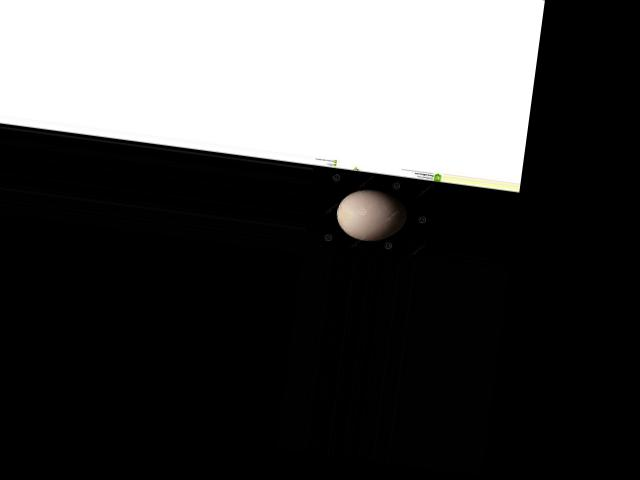egg: (332, 185, 409, 245)
